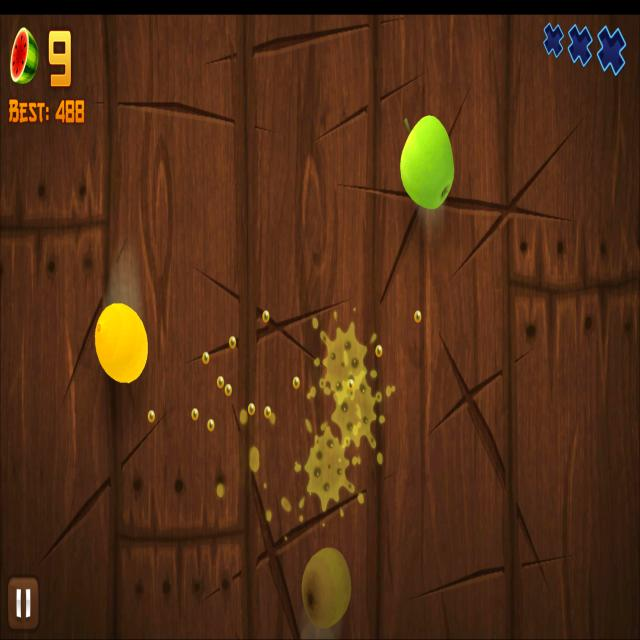fruit: (400, 115, 455, 209), (95, 304, 148, 384), (300, 548, 352, 629)
